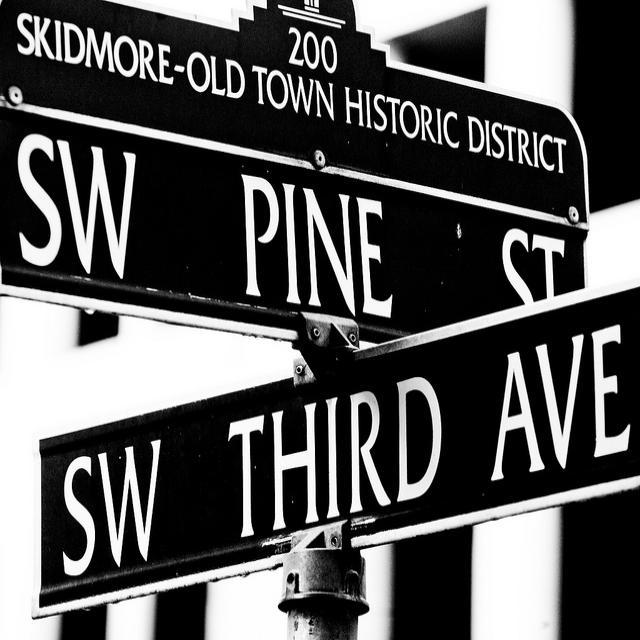fire_hydrant: (261, 515, 377, 640)
